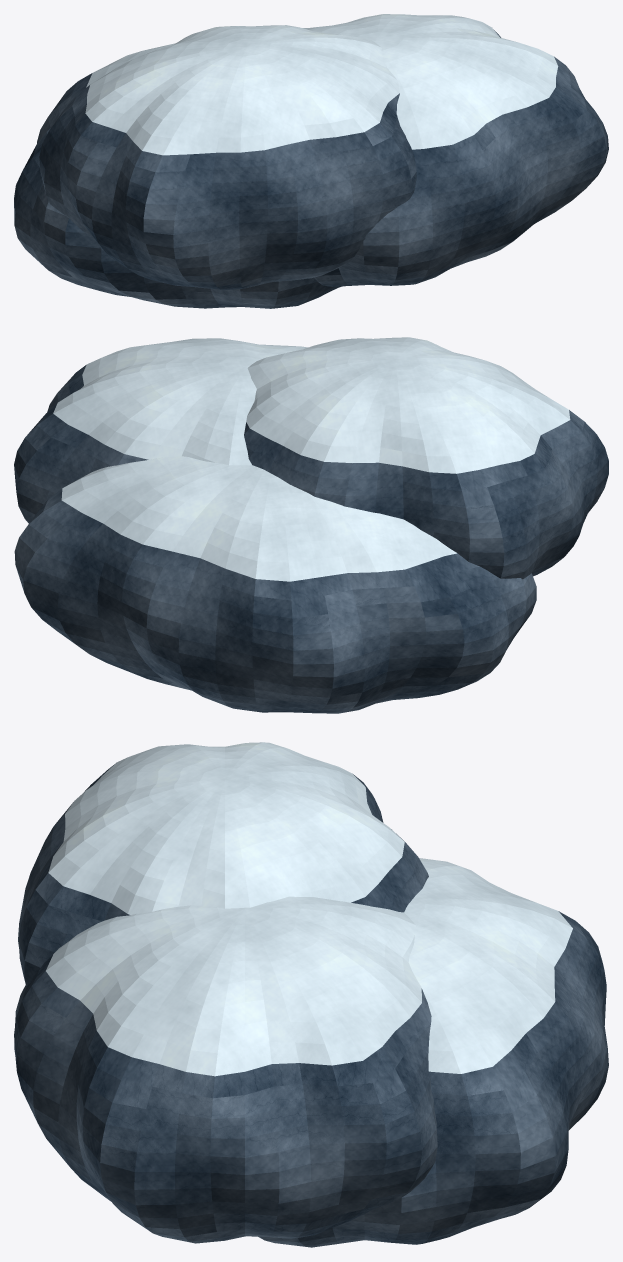
Rendered from ThirdRoom_RockRidge.fbx.
The picture shows the model from 3 angles, top to bottom: view 1: azimuth 30°, elevation 25°; view 2: azimuth 150°, elevation 25°; view 3: azimuth 270°, elevation 25°; orthographic projection. The views are drawn at different scales.
Visible parts, largest first — view 1: WO_ThirdRoom_RockRidge_LOD0; view 2: WO_ThirdRoom_RockRidge_LOD0; view 3: WO_ThirdRoom_RockRidge_LOD0.
Part boxes in pixels (<box>): WO_ThirdRoom_RockRidge_LOD0: <box>14,14,608,308</box>; WO_ThirdRoom_RockRidge_LOD0: <box>14,337,608,713</box>; WO_ThirdRoom_RockRidge_LOD0: <box>14,742,608,1247</box>.
Size of what is drawn, in the model's own units: 6 by 3.27 by 4.75.
